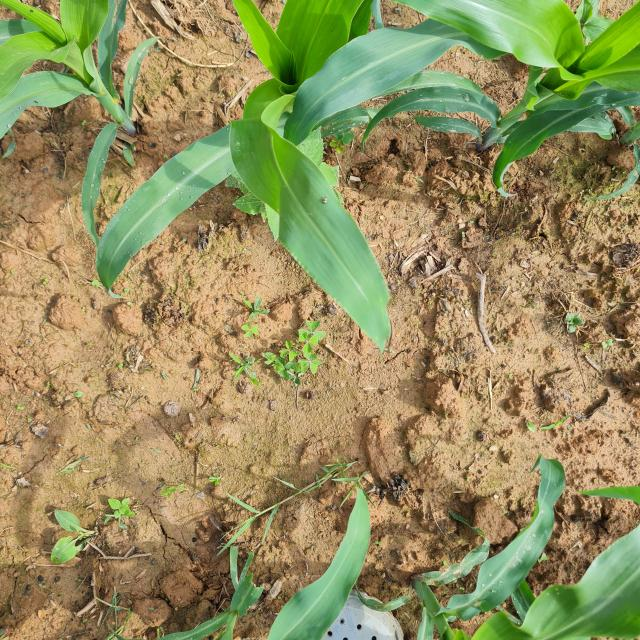maize: (0, 0, 639, 237), (281, 502, 640, 620)
weed: (46, 482, 161, 556), (242, 309, 336, 383)
